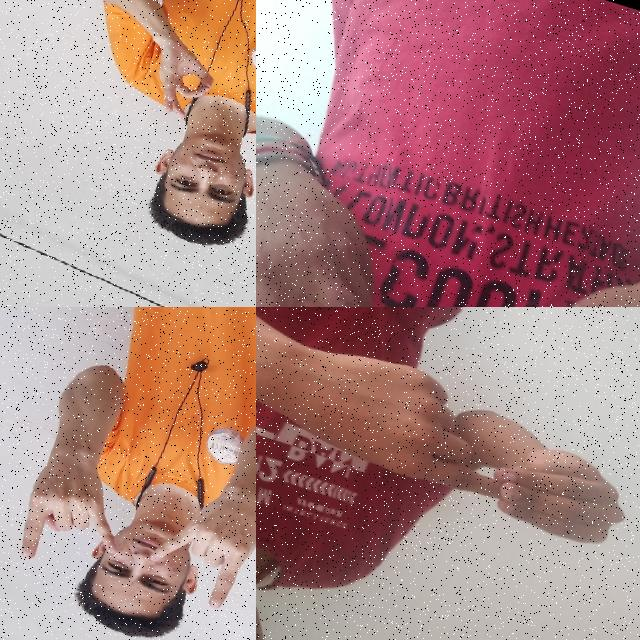Corna: (5, 434, 146, 595), (133, 461, 256, 623)
Five Fathers: (256, 314, 640, 568)
Okay: (133, 24, 232, 131)
Reversed Victory: (256, 118, 473, 307)
